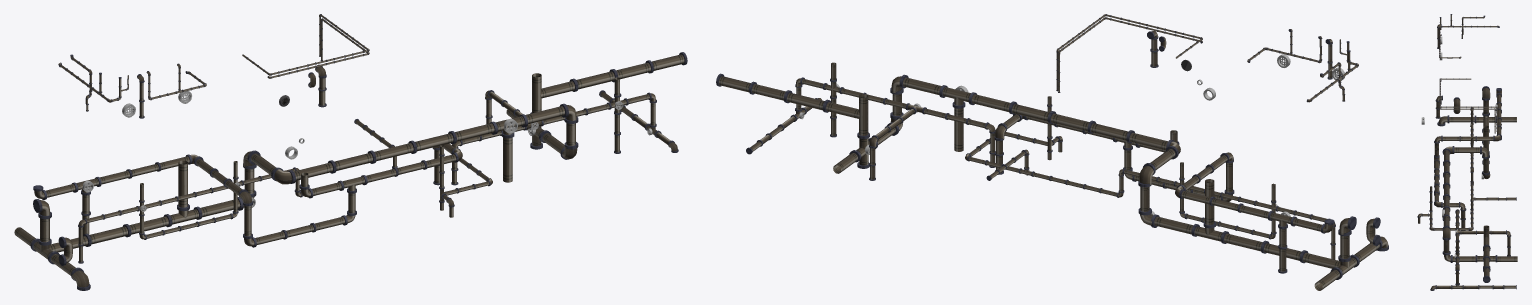
File: Escenario5.fbx
3 views of the same model, side by side, from view 1: azimuth 30°, elevation 25°; view 2: azimuth 150°, elevation 25°; view 3: azimuth 270°, elevation 25° (orthographic). The views are drawn at different scales.
Parts seen in each view (by area): view 1: polySurface1063, polySurface1064, polySurface1058, polySurface1069, polySurface1059, TuboSimple495, polySurface1070, TuboSimple489; view 2: polySurface1069, polySurface1063, polySurface1064, polySurface1065, polySurface1059; view 3: TuboSimple491, polySurface1056, TuboSimple484, TuboSimple501, TuboSimple498, polySurface1066, polySurface1068, TuboSimple489, polySurface1070, polySurface1055, polySurface1054, polySurface1057 (+14 smaller).
Part boxes in pixels (x1,y1,x2,y2): polySurface1063: (328,150,376,173); polySurface1064: (408,131,456,153); polySurface1058: (83,224,131,246); polySurface1069: (569,69,618,91); polySurface1059: (163,204,202,227); TuboSimple495: (503,137,512,182); polySurface1070: (645,52,687,73); TuboSimple489: (178,160,187,207); polySurface1069: (783,90,831,112); polySurface1063: (1087,120,1134,143); polySurface1064: (1009,101,1056,123); polySurface1065: (939,85,976,108); polySurface1059: (1191,221,1229,243); TuboSimple491: (1454,147,1479,152); polySurface1056: (1474,112,1496,123); TuboSimple484: (1449,117,1474,122); TuboSimple501: (1497,256,1517,261); TuboSimple498: (1452,256,1475,261); polySurface1066: (1442,225,1450,240); polySurface1068: (1475,250,1497,267); TuboSimple489: (1483,125,1488,151); polySurface1070: (1483,266,1490,282); polySurface1055: (1482,86,1490,100); polySurface1054: (1453,97,1460,113); polySurface1057: (1437,115,1449,126).
Size of the model in its own units: 866 by 269 by 199.
